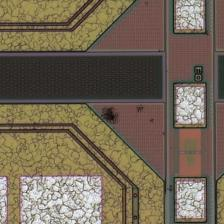PIQ PARTICLE: (99, 100, 172, 165)
